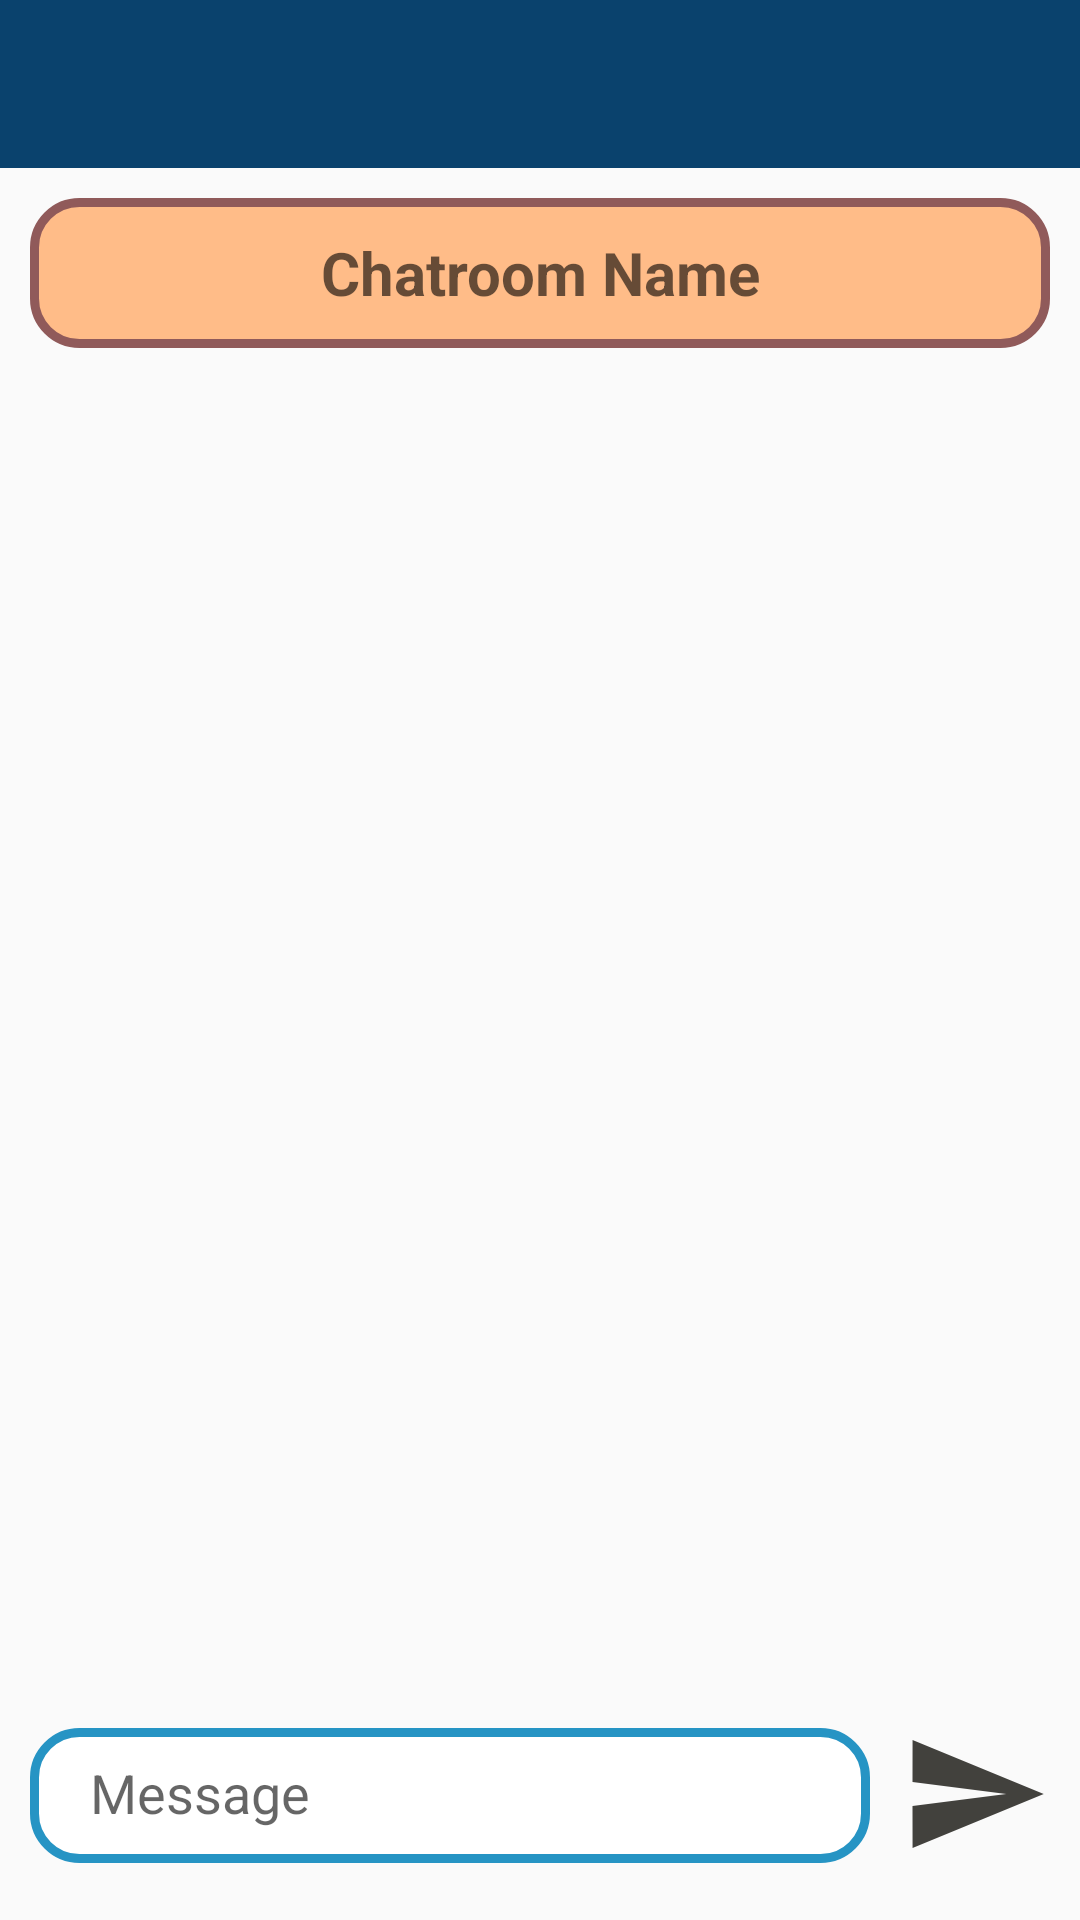

Icon click points for this 1080x1920 phone screenshot, format (x=x, y=y):
send: (x=977, y=1794)
